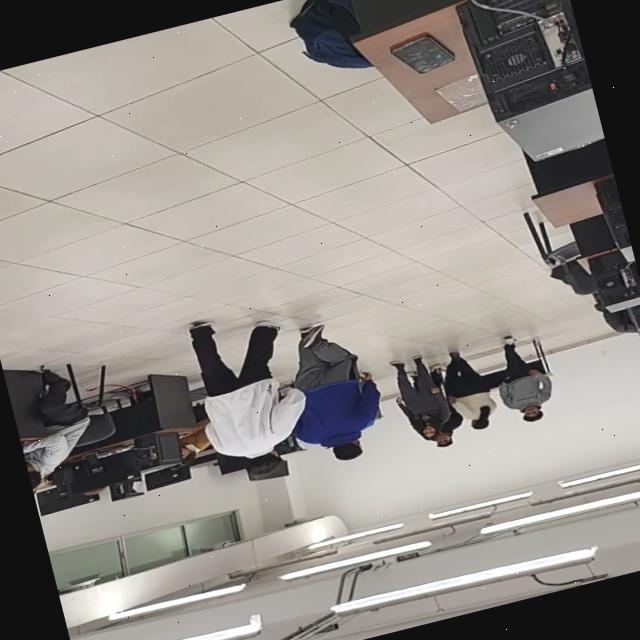Persona: (180, 301, 310, 488), (276, 306, 397, 482), (483, 320, 562, 428), (387, 348, 458, 446), (440, 341, 503, 437)
